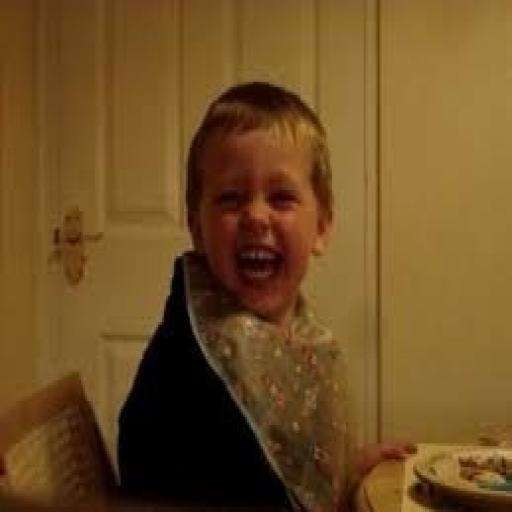laughing: (109, 69, 417, 509)
